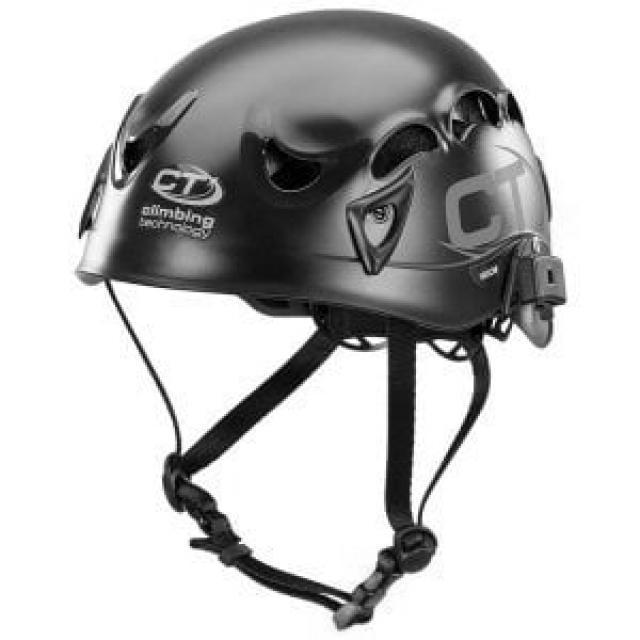safety_helmet: (73, 9, 570, 631)
